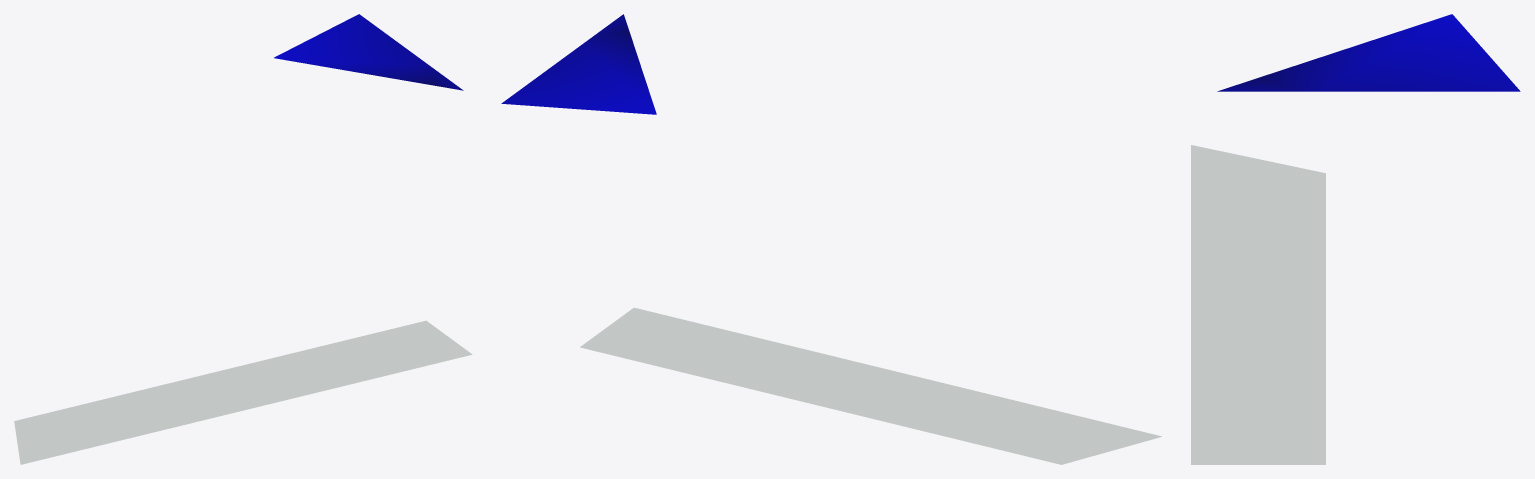
The picture shows the model from 3 angles, left to right: view 1: azimuth 30°, elevation 25°; view 2: azimuth 150°, elevation 25°; view 3: azimuth 270°, elevation 25°; orthographic projection. The views are drawn at different scales.
Parts seen in each view (by area): view 1: G:\FFXIV-MapTools\exports\w1f5\bg\ffxiv\wil_w1\fld\w1f5\bgpl (×2); view 2: G:\FFXIV-MapTools\exports\w1f5\bg\ffxiv\wil_w1\fld\w1f5\bgpl (×2); view 3: G:\FFXIV-MapTools\exports\w1f5\bg\ffxiv\wil_w1\fld\w1f5\bgpl (×2).
Boxes of the visible parts, <box> form: G:\FFXIV-MapTools\exports\w1f5\bg\ffxiv\wil_w1\fld\w1f5\bgpl (×2): <box>14,14,472,464</box>; G:\FFXIV-MapTools\exports\w1f5\bg\ffxiv\wil_w1\fld\w1f5\bgpl (×2): <box>501,14,1161,464</box>; G:\FFXIV-MapTools\exports\w1f5\bg\ffxiv\wil_w1\fld\w1f5\bgpl (×2): <box>1191,14,1520,464</box>.
Size of the model in its own units: 115 by 62.67 by 50.16.
